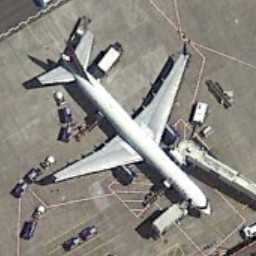Airplane: (27, 26, 217, 227)
